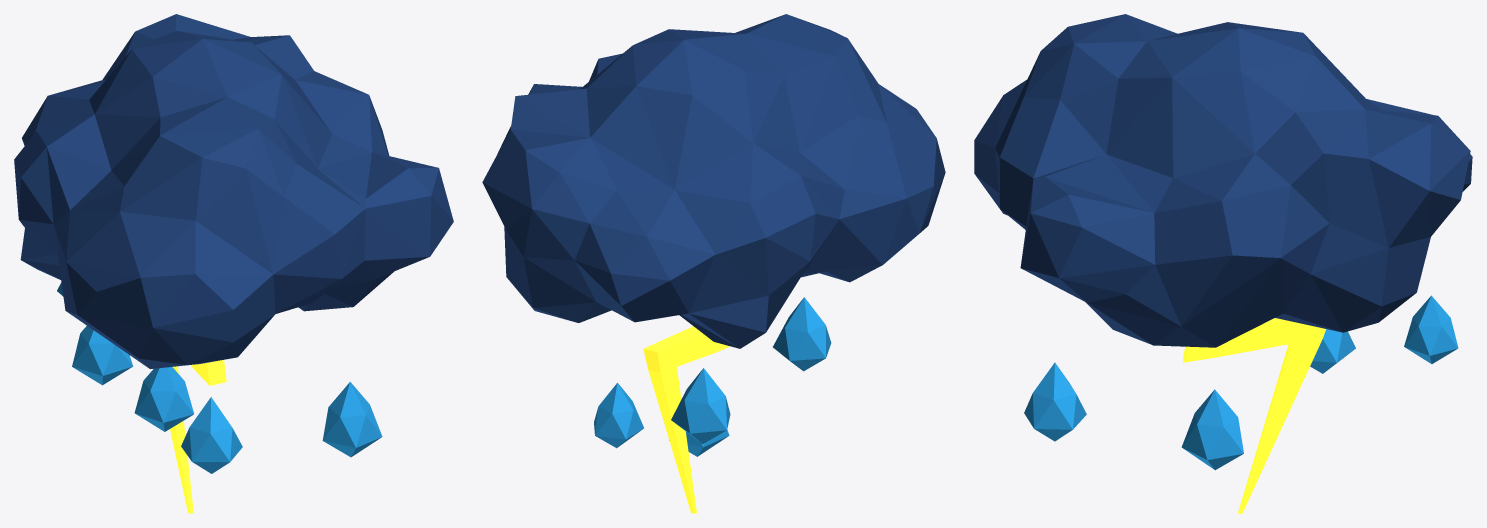
The picture shows the model from 3 angles, left to right: view 1: azimuth 30°, elevation 25°; view 2: azimuth 150°, elevation 25°; view 3: azimuth 270°, elevation 25°; orthographic projection. The views are drawn at different scales.
Visible parts, largest first — view 1: Cloud.008, Cloud.010, Cloud.009, Cloud.012, Cloud.013, Cube.001; view 2: Cloud.008, Cube.001, Cloud.013, Cloud.012, Cloud.011; view 3: Cloud.008, Cube.001, Cloud.009, Cloud.010, Cloud.011, Cloud.013.
Boxes of the visible parts, x1,y1,x2,y2 form: Cloud.008: [14, 14, 453, 368]; Cloud.010: [322, 382, 382, 457]; Cloud.009: [181, 397, 242, 473]; Cloud.012: [134, 367, 193, 431]; Cloud.013: [72, 326, 133, 385]; Cube.001: [170, 360, 226, 513]; Cloud.008: [482, 14, 945, 348]; Cube.001: [643, 326, 729, 513]; Cloud.013: [671, 368, 730, 443]; Cloud.012: [773, 297, 831, 371]; Cloud.011: [594, 383, 643, 448]; Cloud.008: [974, 14, 1472, 347]; Cube.001: [1183, 318, 1325, 513]; Cloud.009: [1181, 389, 1243, 470]; Cloud.010: [1024, 362, 1086, 441]; Cloud.011: [1404, 295, 1458, 363]; Cloud.013: [1310, 329, 1355, 373].
Size of the model in its own units: 3.73 by 4.7 by 4.33.
